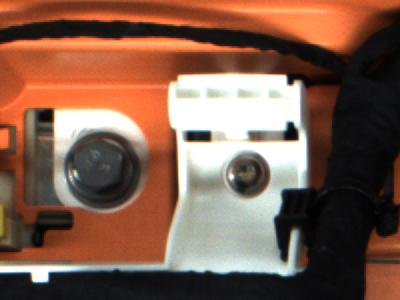nut_b: (63, 132, 142, 208)
